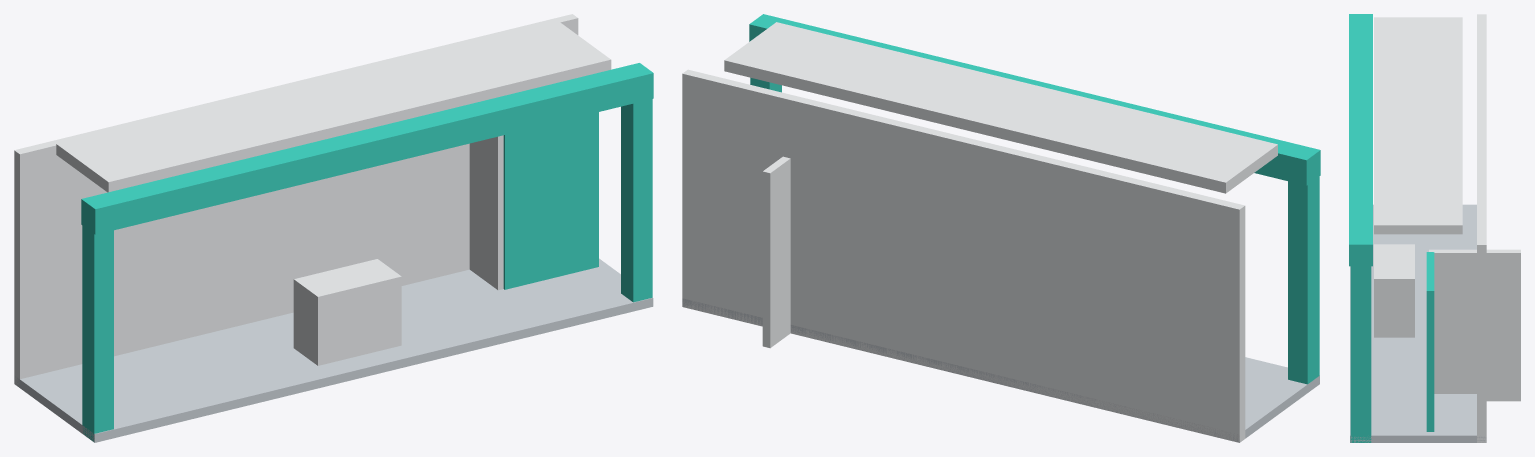
3 views of the same model, side by side, from view 1: azimuth 30°, elevation 25°; view 2: azimuth 150°, elevation 25°; view 3: azimuth 270°, elevation 25° (orthographic). The views are drawn at different scales.
Parts seen in each view (by area): view 1: Exhibition Booth Concept; view 2: Exhibition Booth Concept; view 3: Exhibition Booth Concept.
Boxes of the visible parts, box(x1,y1,x2,y2) form: Exhibition Booth Concept: box(14, 14, 653, 442); Exhibition Booth Concept: box(682, 14, 1320, 442); Exhibition Booth Concept: box(1349, 14, 1520, 442).
Bounding box in the file's own units: 8 × 3.34 × 2.52.
